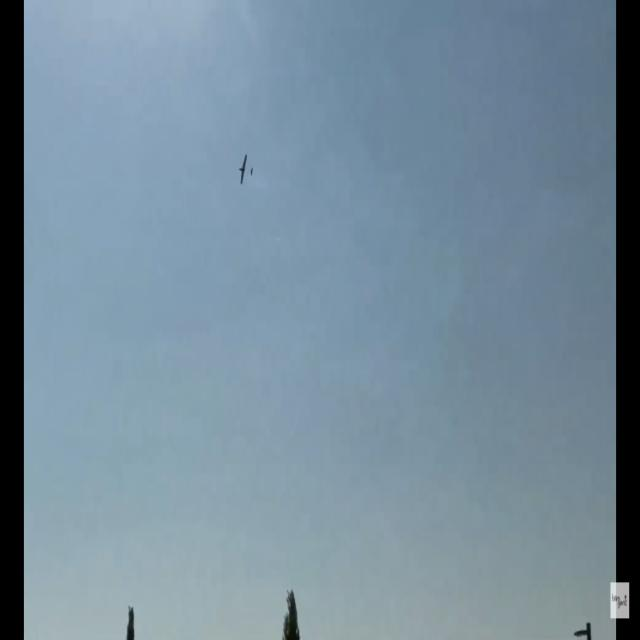iha: (238, 153, 254, 186)
